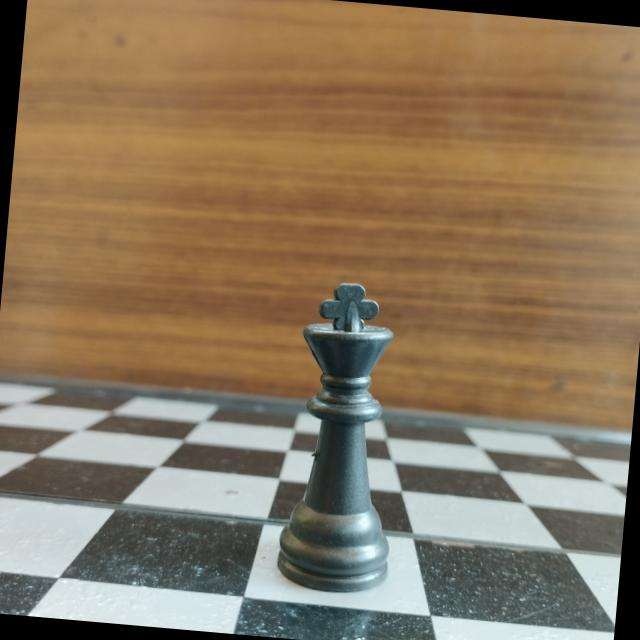Black King: (266, 266, 430, 606)
